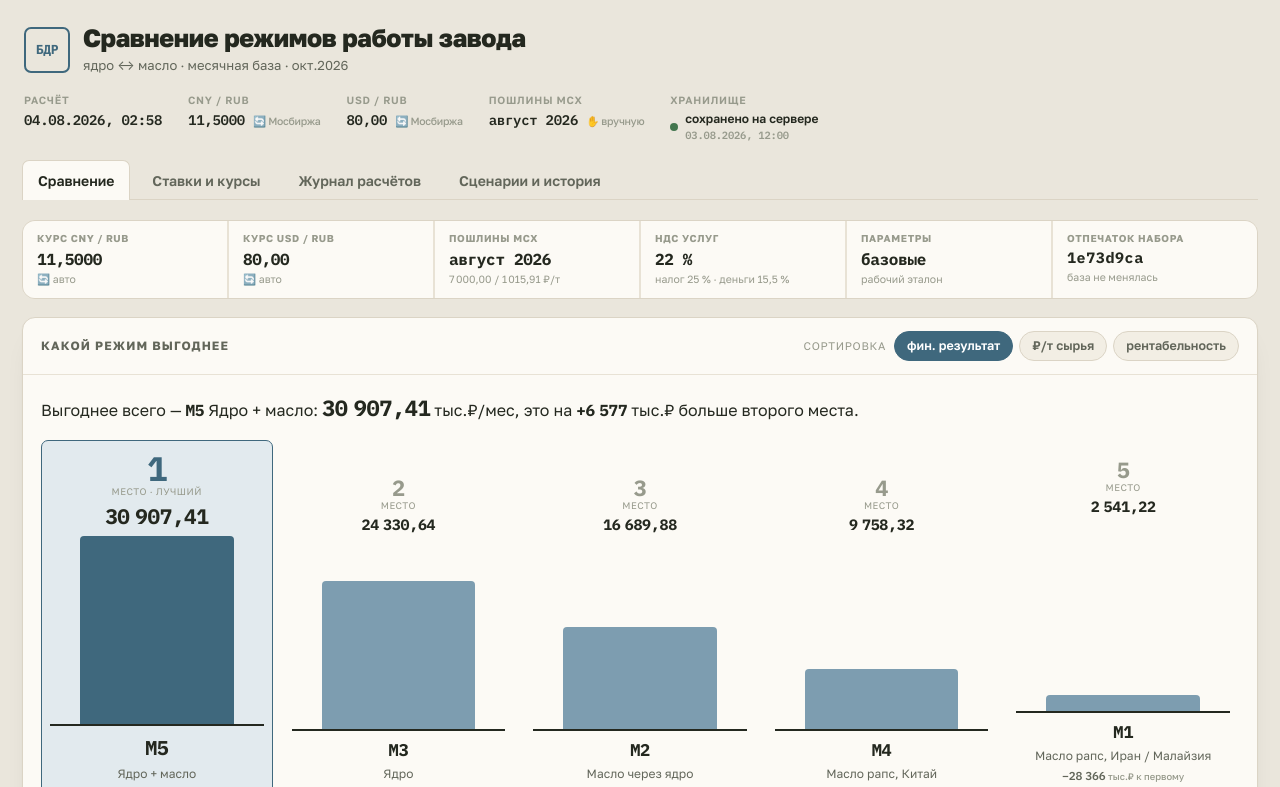
Test case: Источники разошлись › молча не применяется, показаны оба значения с источниками
Click the button "Ставки и курсы". click: [206, 180]
box: [136,160,277,200]
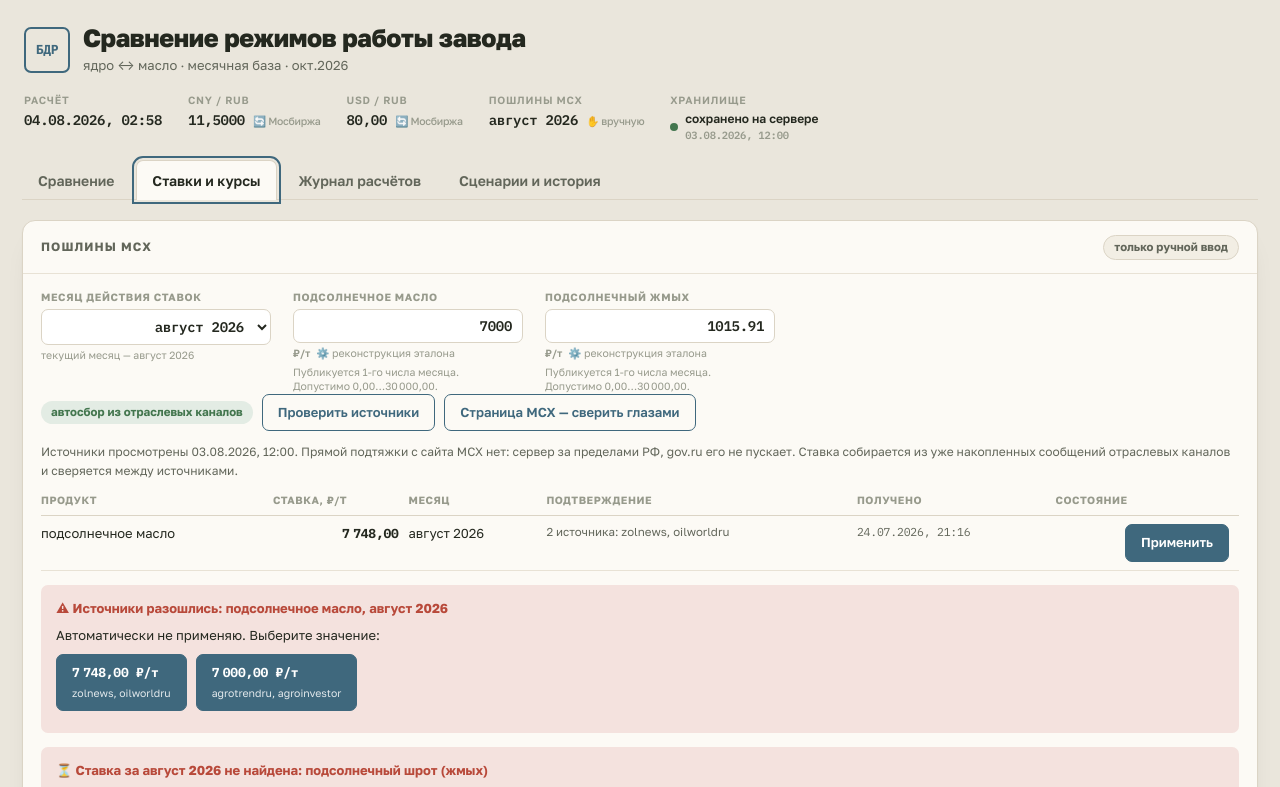
Expected: the text "⚠ Источники разошлись: подсолнечное масло, август 2026" is shown, [56,600,448,616]
Expected: the text "7 748,00 ₽/т" is shown, [72,663,159,683]
Expected: the text "7 000,00 ₽/т" is shown, [212,663,298,683]
